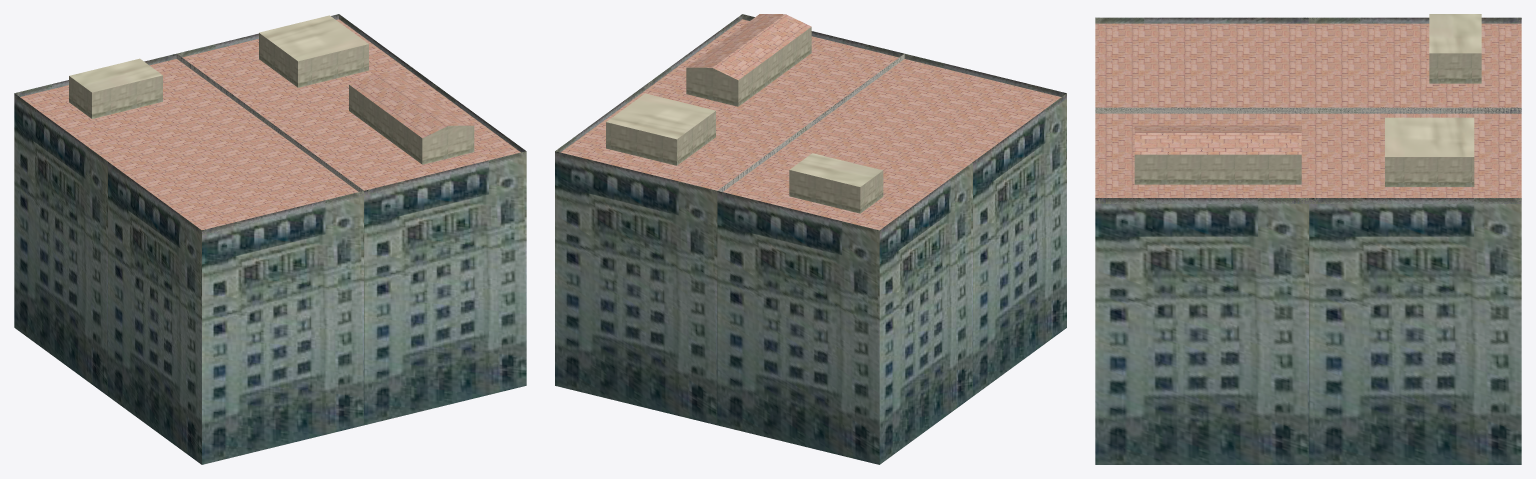
The picture shows the model from 3 angles, left to right: view 1: azimuth 30°, elevation 25°; view 2: azimuth 150°, elevation 25°; view 3: azimuth 270°, elevation 25°; orthographic projection. The views are drawn at different scales.
Parts seen in each view (by area): view 1: Object_5, Object_4, Object_6, Object_7, Object_2, Object_10, Object_9, Object_11, Object_8, Object_3, Object_1; view 2: Object_5, Object_4, Object_6, Object_7, Object_2, Object_10, Object_9, Object_11, Object_8, Object_3, Object_1; view 3: Object_5, Object_4, Object_7, Object_6, Object_9, Object_3, Object_2, Object_10, Object_8, Object_1, Object_11.
Boxes of the visible parts, x1,y1,x2,y2 form: Object_5: (14, 14, 526, 464); Object_4: (20, 19, 520, 230); Object_6: (349, 72, 473, 138); Object_7: (349, 85, 474, 164); Object_2: (14, 14, 526, 234); Object_10: (259, 33, 368, 87); Object_9: (259, 15, 368, 61); Object_11: (69, 75, 162, 118); Object_8: (69, 58, 162, 92); Object_3: (176, 54, 363, 191); Object_1: (177, 55, 361, 190); Object_5: (555, 14, 1066, 464); Object_4: (560, 19, 1061, 230); Object_6: (687, 14, 811, 80); Object_7: (686, 27, 811, 106); Object_2: (555, 14, 1066, 234); Object_10: (606, 111, 715, 165); Object_9: (606, 93, 715, 139); Object_11: (789, 170, 883, 213); Object_8: (790, 153, 882, 186); Object_3: (717, 54, 904, 191); Object_1: (719, 54, 904, 191); Object_5: (1095, 17, 1521, 464); Object_4: (1095, 23, 1521, 197); Object_7: (1134, 154, 1301, 184); Object_6: (1134, 125, 1301, 154); Object_9: (1385, 117, 1474, 156); Object_3: (1095, 107, 1521, 113); Object_2: (1095, 17, 1521, 203); Object_10: (1385, 157, 1474, 186); Object_8: (1429, 14, 1481, 53); Object_1: (1095, 107, 1521, 113); Object_11: (1429, 53, 1481, 83).
Size of the model in its own units: 1283 by 1283 by 989.
11 materials, 10 textured.
